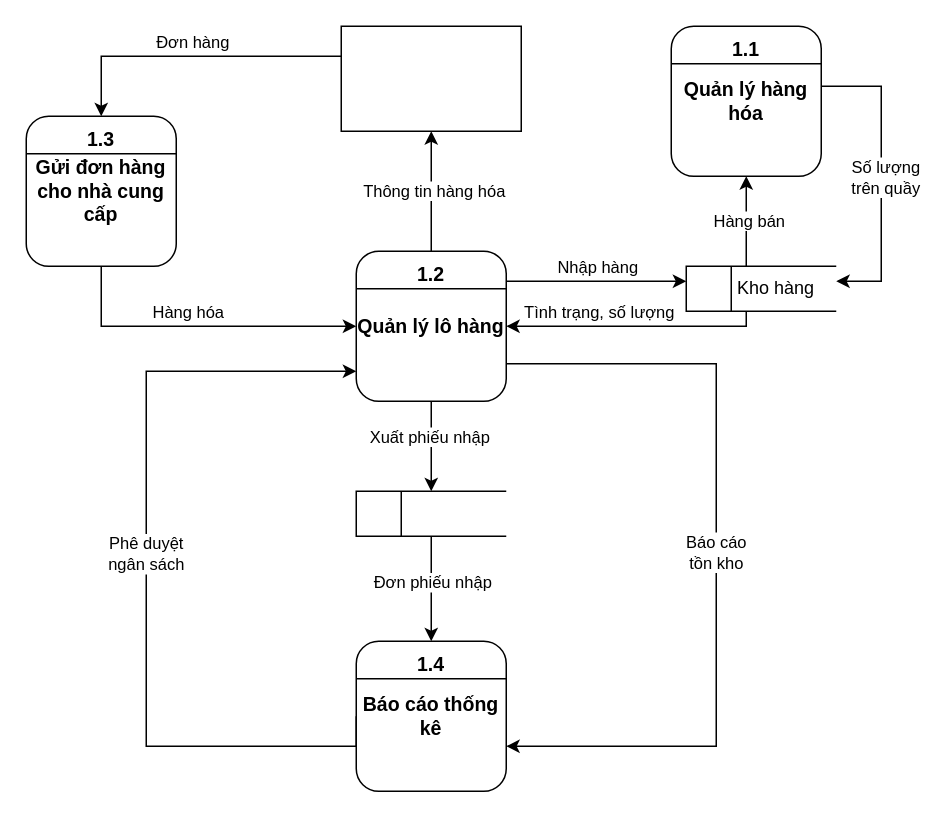
Some shapes in this 945 by 818 pixel diagram are drawn without their labels. The box of each missing label's shape, as (x1, y1, x2, y2) in pixels:
Bộ phận nhập hàng: (340, 25, 521, 131)
Hóa đơn mua: (355, 490, 506, 536)
